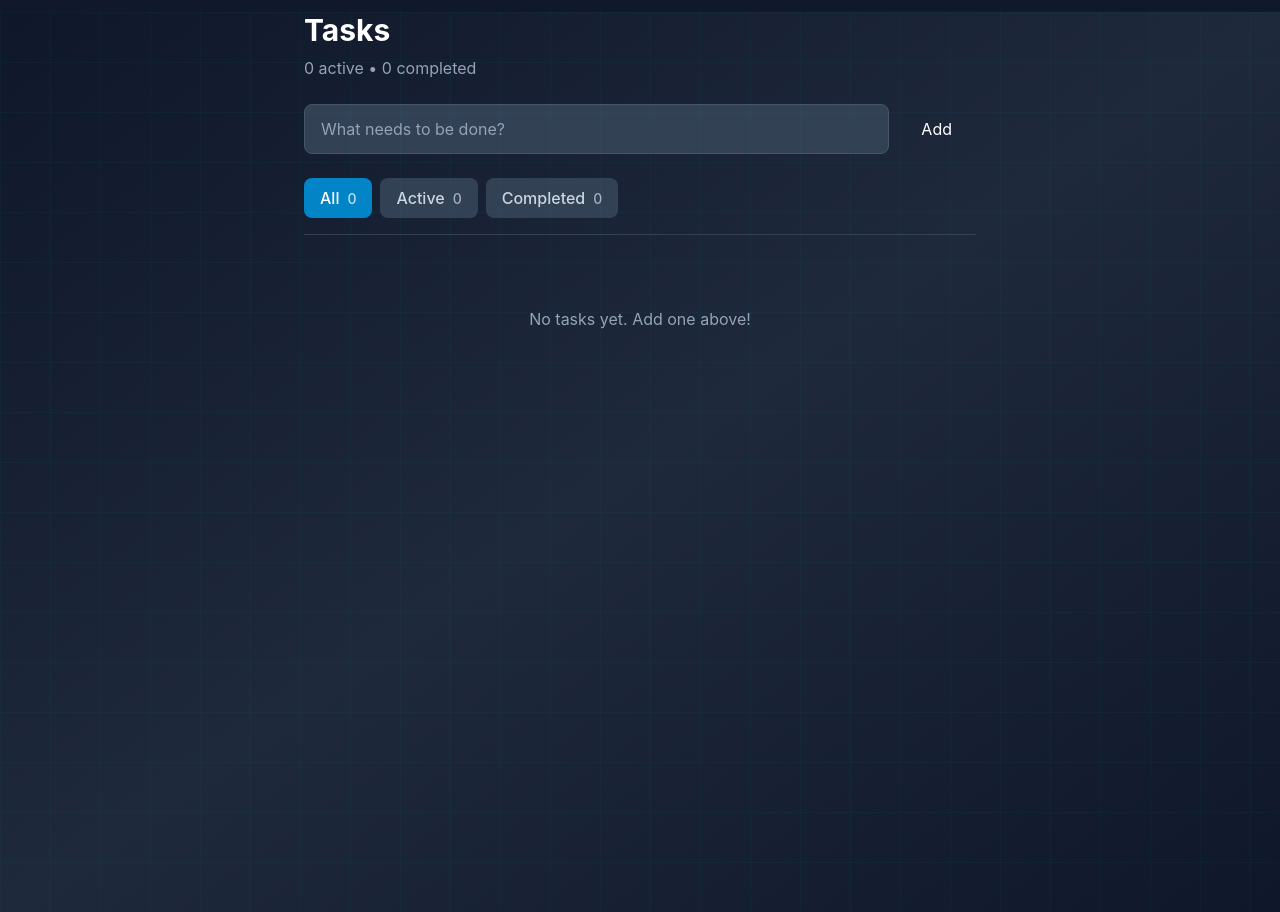
Scenario: TodoList › removes a todo
Type "Test task" into the field with placeholder "What needs to be done?" at [597, 129], box 304,104 -> 889,154
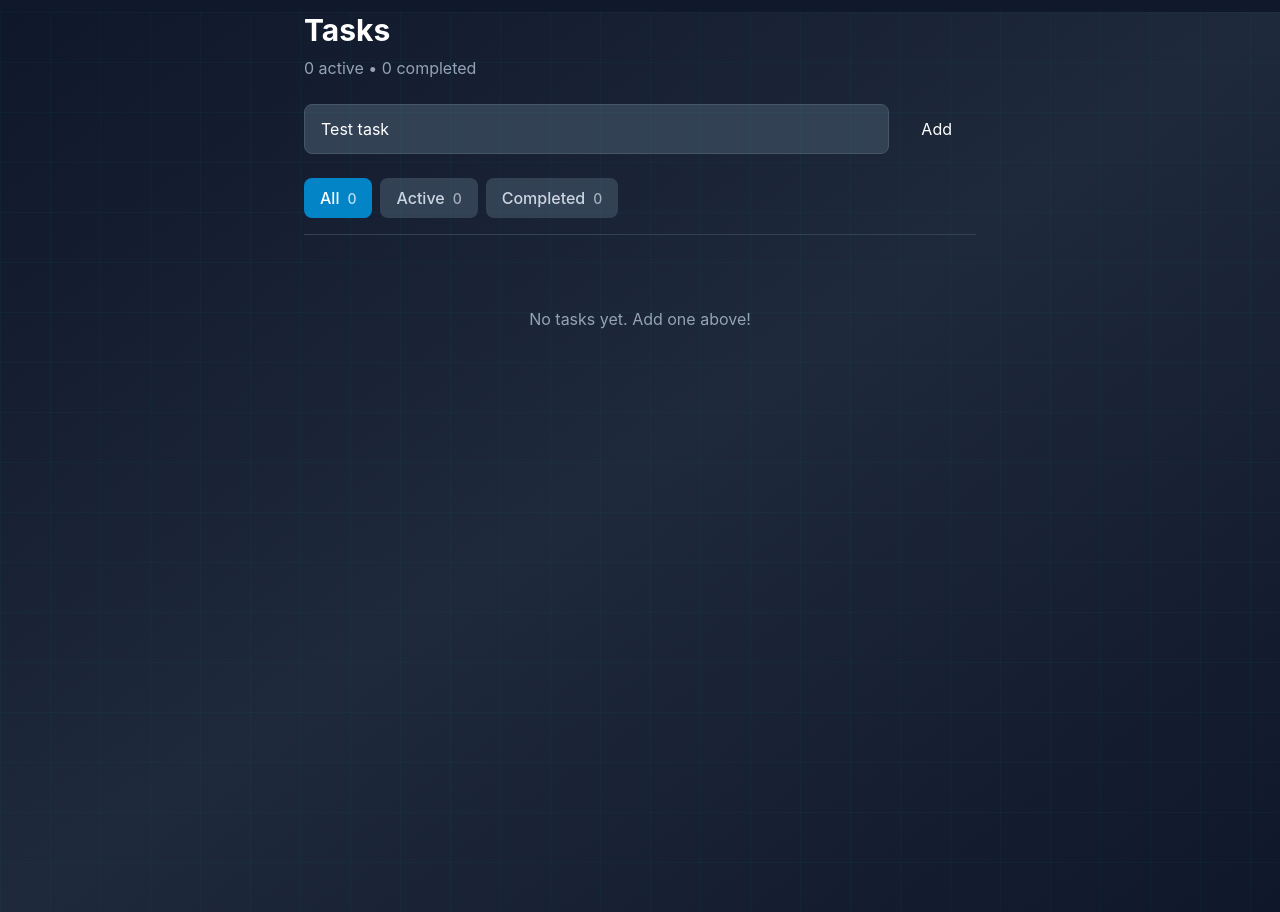
Click the button "Add" at [937, 129], box 897,104 -> 976,154
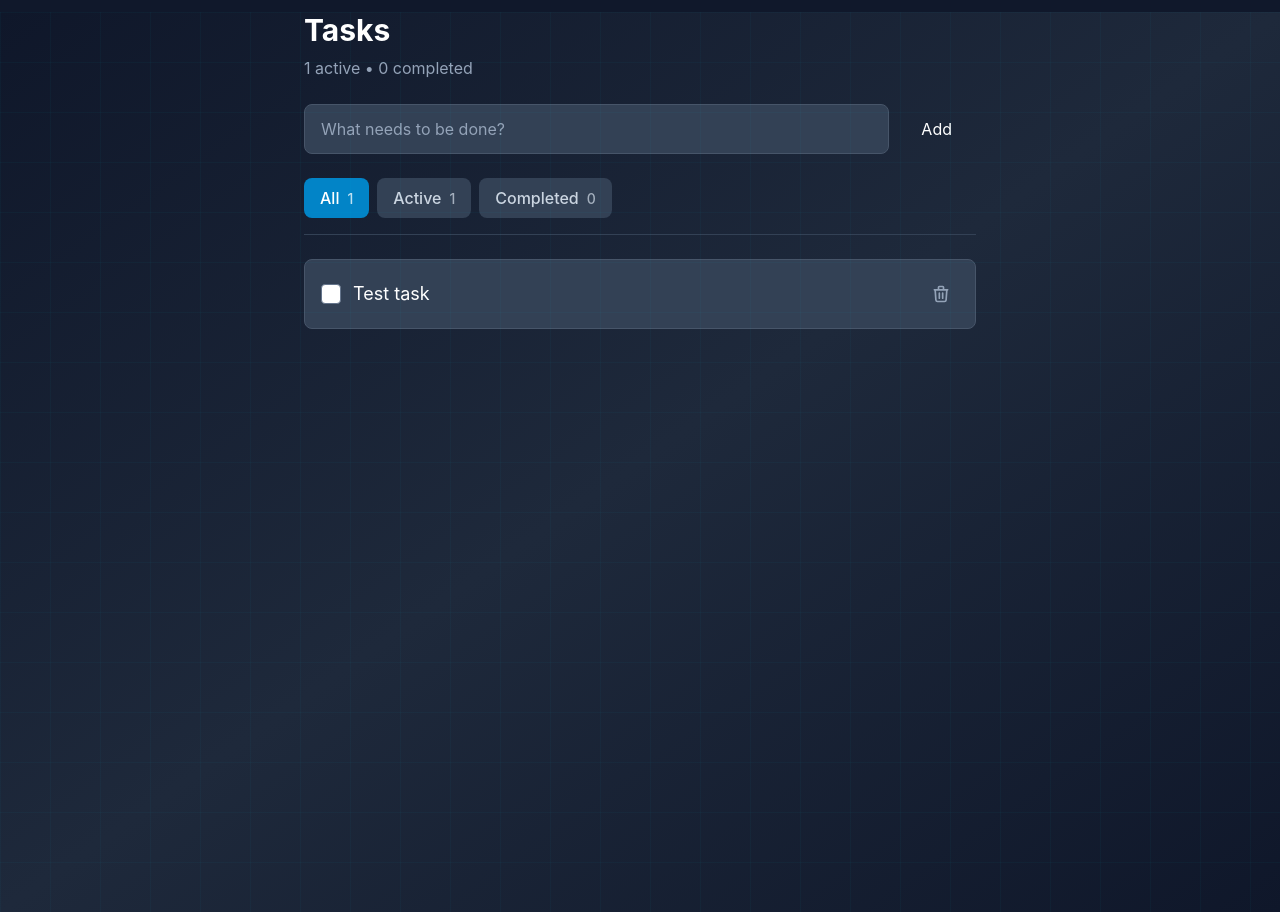
# Remove it
Click the button named "delete" at [941, 294], box 923,276 -> 959,312
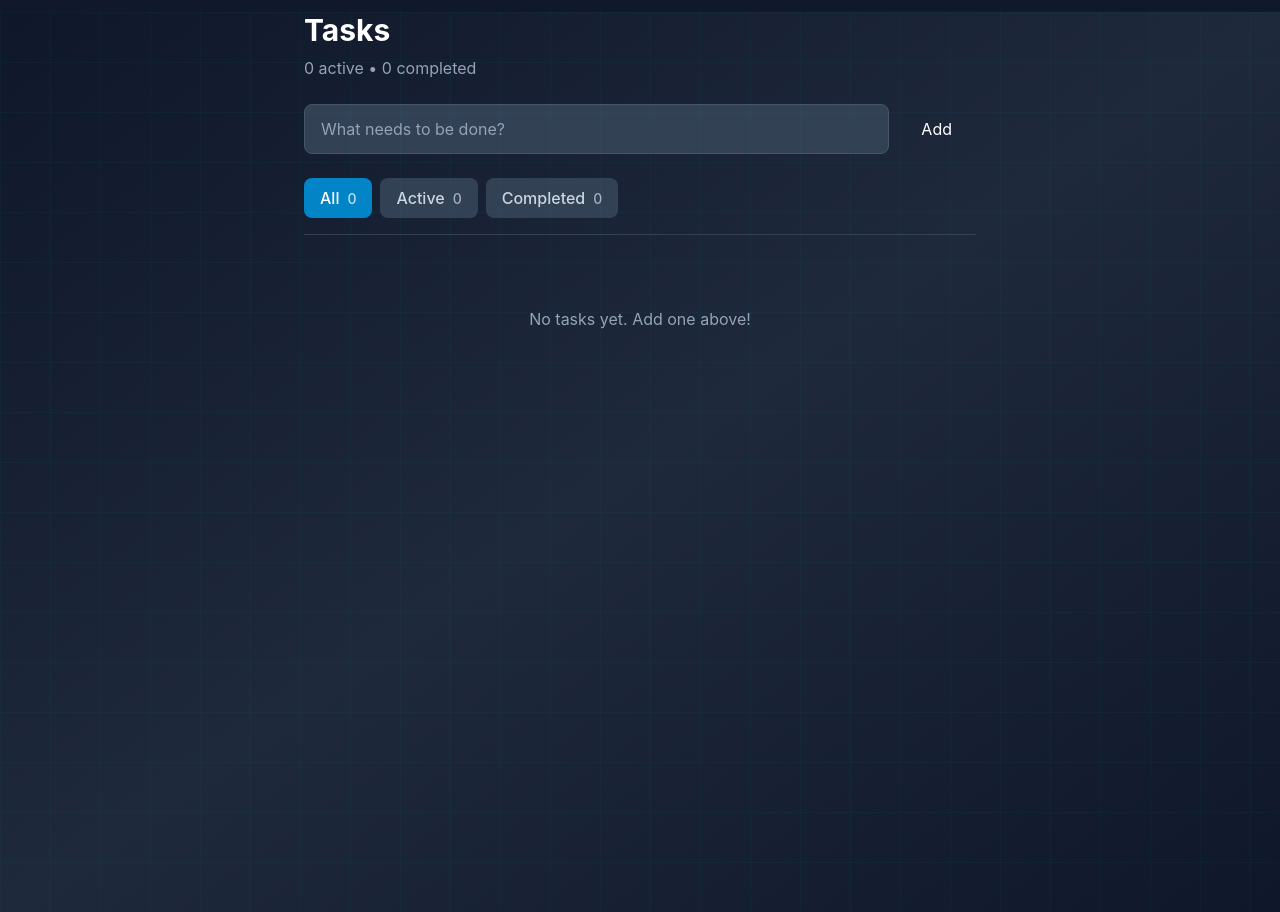
Result: the text "Test task" is gone
